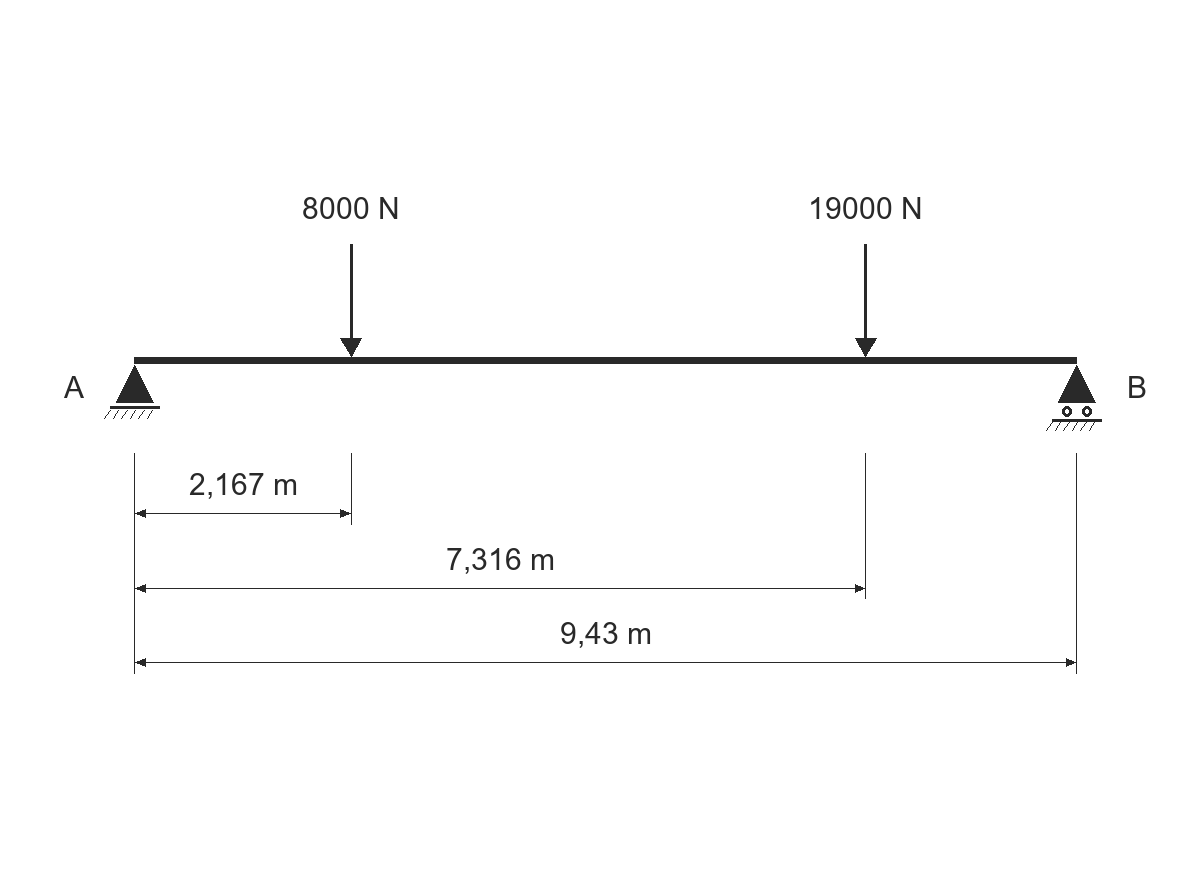pin_support: (104, 365, 160, 419)
point_load: (340, 244, 362, 357), (855, 244, 877, 357)
roller_support: (1046, 365, 1102, 431)
